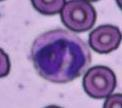N: (30, 30, 91, 82)
